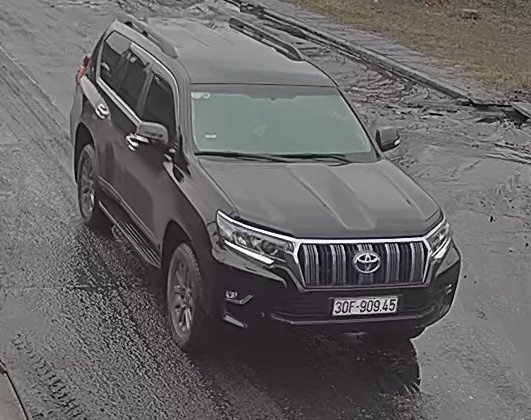vehicle plate: (328, 290, 403, 316)
